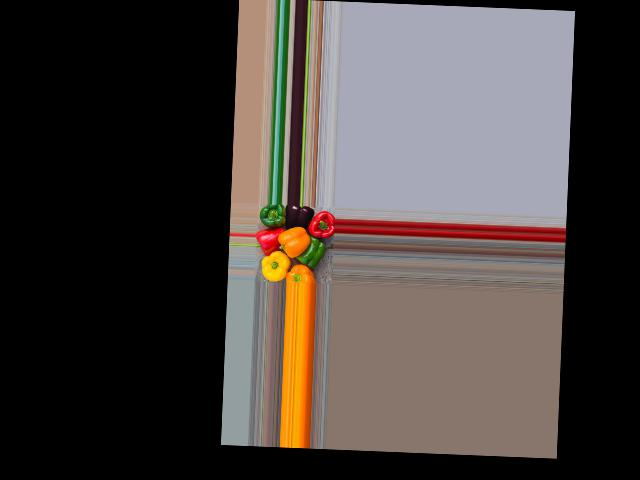bell_pepper: (286, 257, 324, 283)
